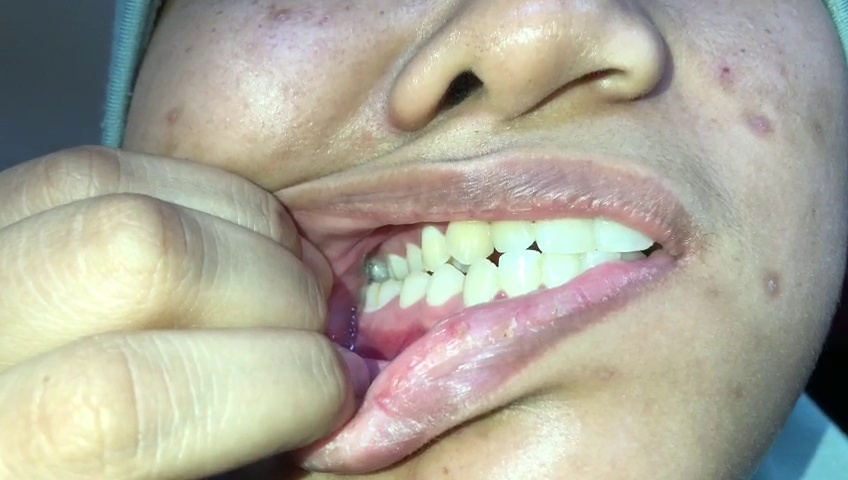1st Molar: (377, 279, 402, 312), (391, 252, 405, 277)
1st Premolar: (427, 265, 464, 309), (420, 224, 449, 273)
2nd Molar: (364, 278, 380, 314), (367, 254, 387, 282)
2nd Premolar: (401, 268, 428, 308), (404, 239, 422, 273)
Canine: (443, 216, 493, 263), (464, 260, 496, 311)
Lateral Incisor: (496, 251, 541, 301)
